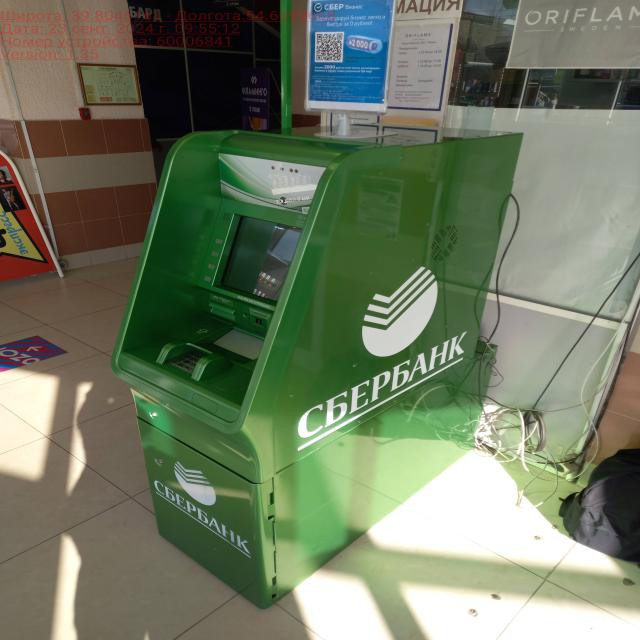bank: (117, 128, 517, 610)
